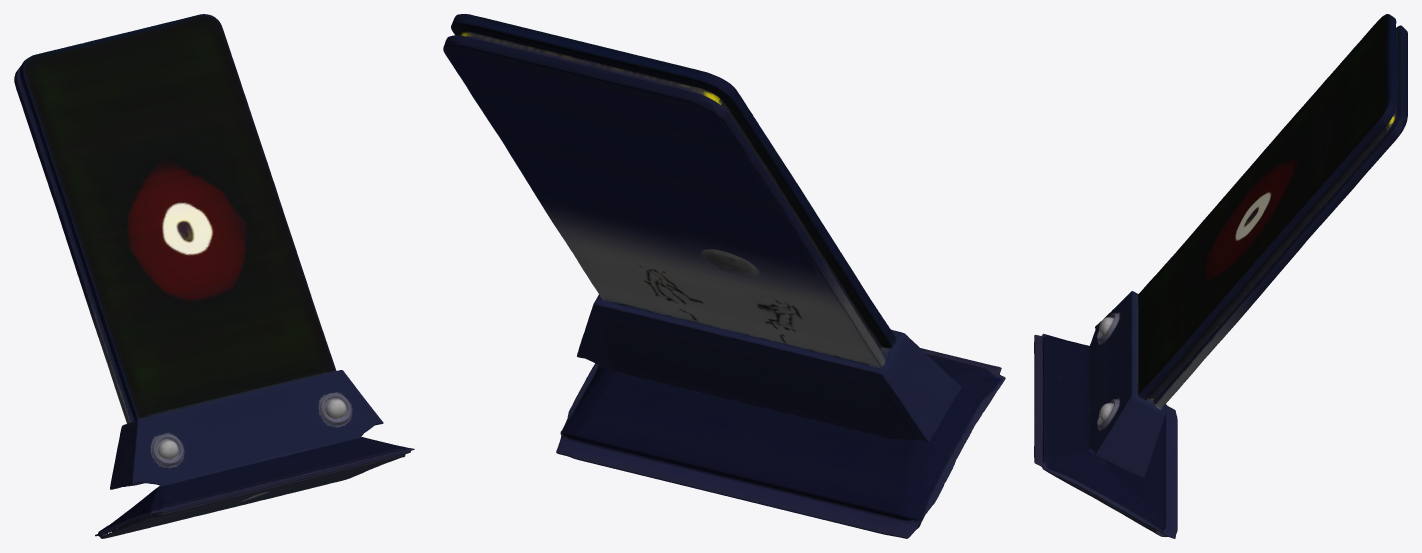
Rendered from target.glb.
The picture shows the model from 3 angles, left to right: view 1: azimuth 30°, elevation 25°; view 2: azimuth 150°, elevation 25°; view 3: azimuth 270°, elevation 25°; orthographic projection. The views are drawn at different scales.
Size of the model in its own units: 0.6993 by 1 by 0.816.
Materials: 1 (1 with a texture image).
